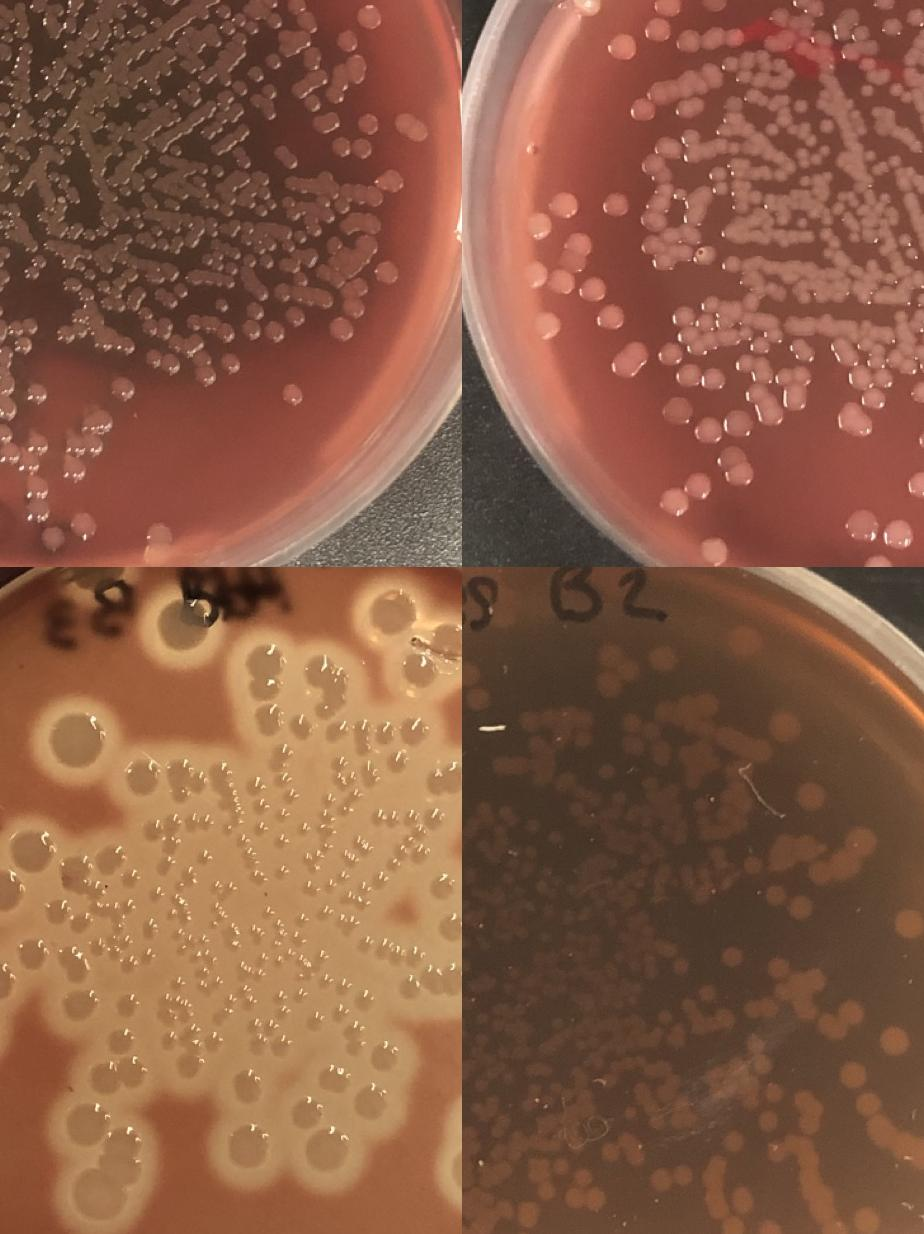assalmonicida: (756, 954, 826, 1022), (703, 1153, 757, 1234), (594, 643, 678, 694), (616, 711, 674, 766), (566, 1166, 610, 1210), (823, 1000, 866, 1042), (599, 1130, 646, 1168), (791, 1089, 826, 1134), (648, 1164, 696, 1192), (876, 1022, 910, 1054), (796, 780, 828, 813), (769, 711, 801, 744), (844, 826, 876, 858), (729, 627, 761, 659), (850, 1205, 882, 1234), (762, 1138, 790, 1162), (786, 896, 814, 920), (762, 882, 789, 906), (753, 1214, 785, 1234), (516, 1203, 542, 1227), (732, 1189, 758, 1213), (723, 1129, 749, 1153), (866, 1116, 892, 1140), (755, 1110, 781, 1134), (720, 944, 746, 968), (896, 911, 922, 935), (463, 688, 489, 712), (597, 644, 624, 667), (856, 1092, 882, 1114), (840, 1064, 866, 1086), (808, 862, 830, 886), (550, 1156, 572, 1179), (536, 1181, 558, 1203), (762, 1082, 784, 1104), (752, 1052, 774, 1074), (652, 1006, 674, 1028), (678, 996, 700, 1018), (696, 980, 718, 1002), (670, 957, 692, 979), (740, 854, 762, 876), (653, 701, 675, 723), (696, 694, 718, 716), (750, 740, 772, 761), (462, 663, 481, 687), (718, 1008, 738, 1030), (907, 1146, 924, 1169), (822, 1221, 848, 1234)
pddamselae: (65, 1102, 141, 1188), (58, 944, 98, 1024), (49, 711, 104, 769), (156, 598, 210, 656), (305, 1127, 349, 1173), (226, 1122, 270, 1168), (371, 590, 415, 636), (11, 828, 54, 874), (92, 1056, 146, 1088), (351, 1080, 391, 1120), (245, 642, 284, 682), (288, 1092, 324, 1130), (122, 759, 158, 796), (430, 622, 462, 663), (229, 1066, 265, 1102), (12, 938, 48, 974), (399, 650, 435, 686), (421, 965, 462, 992), (0, 867, 23, 913), (371, 1038, 399, 1066), (430, 874, 460, 900), (98, 842, 128, 868), (324, 1066, 352, 1092), (176, 1052, 204, 1078), (107, 1026, 135, 1052), (113, 991, 141, 1017), (42, 899, 70, 925), (206, 760, 234, 786), (401, 718, 429, 744), (306, 653, 334, 679), (0, 961, 17, 1001), (438, 914, 462, 941), (440, 763, 462, 790)
vangil: (0, 397, 51, 521), (62, 408, 116, 480), (330, 278, 368, 342), (97, 268, 146, 313), (332, 114, 378, 160), (215, 3, 261, 47), (201, 248, 239, 290), (242, 288, 269, 340), (188, 316, 236, 343), (6, 317, 38, 355), (278, 18, 318, 48), (55, 308, 90, 342), (144, 523, 172, 565), (394, 112, 430, 142), (146, 350, 182, 377), (290, 82, 322, 112), (154, 284, 189, 310), (194, 352, 218, 388), (248, 82, 278, 110), (254, 188, 279, 217), (273, 145, 299, 171), (336, 182, 356, 214), (311, 112, 341, 132), (282, 230, 308, 253), (24, 255, 46, 282), (42, 526, 66, 550), (72, 513, 96, 537), (25, 382, 49, 406), (110, 376, 134, 400), (356, 235, 380, 259), (380, 168, 404, 192), (343, 61, 367, 85), (336, 29, 360, 53), (358, 5, 382, 29), (281, 382, 304, 406), (301, 46, 322, 72), (374, 260, 398, 282), (0, 244, 10, 294), (282, 196, 300, 223), (118, 206, 143, 224), (157, 316, 173, 342), (220, 353, 240, 373), (264, 322, 284, 342), (284, 306, 304, 326), (314, 290, 334, 310), (274, 282, 294, 302), (324, 234, 344, 254), (364, 188, 384, 206), (63, 274, 82, 292), (247, 64, 265, 83), (326, 86, 344, 104), (230, 79, 248, 97), (264, 52, 282, 70), (265, 12, 283, 30), (117, 338, 134, 356), (158, 60, 174, 78), (202, 22, 218, 40), (339, 218, 355, 235), (315, 193, 331, 210), (284, 174, 300, 191), (168, 142, 185, 158), (149, 14, 165, 31), (288, 0, 306, 15), (0, 346, 12, 368), (200, 124, 216, 140), (112, 6, 128, 22), (365, 218, 381, 233), (186, 78, 200, 95), (132, 22, 148, 36), (260, 255, 274, 270), (237, 154, 251, 169), (214, 299, 228, 313), (83, 268, 97, 282), (166, 266, 180, 280), (242, 254, 256, 268), (82, 228, 96, 242), (150, 224, 164, 238), (308, 224, 322, 238), (221, 203, 235, 217), (13, 184, 27, 198), (144, 164, 158, 178), (257, 171, 270, 185), (211, 164, 224, 178), (262, 0, 280, 10), (140, 306, 152, 320), (190, 271, 202, 285), (122, 185, 134, 199), (124, 0, 140, 8), (163, 0, 180, 5), (0, 304, 3, 318)
vharveyi: (658, 292, 718, 388), (720, 49, 792, 90), (546, 231, 592, 294), (851, 324, 893, 388), (644, 0, 701, 42), (660, 470, 712, 516), (713, 445, 754, 486), (684, 228, 722, 268), (796, 134, 832, 171), (907, 469, 924, 537), (738, 328, 772, 356), (861, 57, 892, 85), (694, 416, 722, 446), (836, 402, 864, 432), (664, 396, 692, 426), (849, 511, 877, 540), (700, 538, 728, 566), (884, 520, 912, 548), (708, 166, 730, 200), (551, 191, 578, 218), (518, 260, 544, 288), (705, 30, 742, 49), (532, 311, 558, 338), (598, 302, 625, 328), (525, 213, 552, 239), (603, 191, 629, 218), (611, 352, 637, 378), (581, 277, 607, 303), (610, 32, 636, 58), (676, 29, 702, 55), (629, 97, 655, 122), (794, 0, 824, 17), (733, 354, 757, 372), (574, 0, 600, 16), (910, 377, 924, 406), (882, 18, 902, 38), (863, 553, 891, 567), (908, 309, 924, 333), (872, 0, 898, 14), (774, 368, 794, 386), (680, 129, 700, 147), (742, 290, 758, 312), (702, 0, 728, 13), (864, 388, 882, 406), (653, 253, 671, 271), (640, 236, 658, 254), (663, 228, 681, 246), (650, 196, 668, 214), (642, 156, 660, 174), (660, 139, 678, 157), (772, 8, 789, 25), (834, 24, 851, 40), (868, 268, 884, 284), (818, 120, 834, 136), (855, 24, 871, 40), (844, 8, 860, 24), (908, 8, 923, 25), (916, 424, 924, 455), (899, 340, 915, 355), (857, 86, 873, 101), (764, 122, 778, 139), (816, 31, 830, 48), (794, 98, 808, 114), (798, 173, 812, 188), (890, 84, 904, 99), (822, 246, 836, 260), (847, 230, 861, 244), (794, 216, 808, 230), (786, 122, 800, 136), (916, 45, 924, 68), (888, 153, 901, 167)
